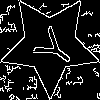Y: (25, 20, 79, 73)
